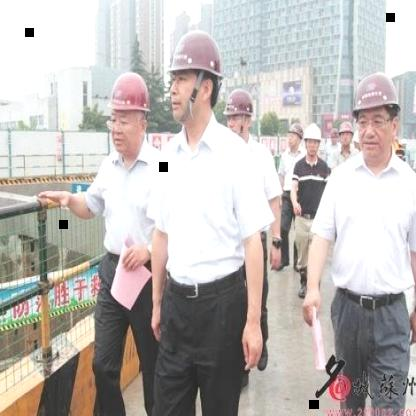helmet: (166, 26, 226, 78), (102, 66, 156, 118), (347, 70, 404, 115)
